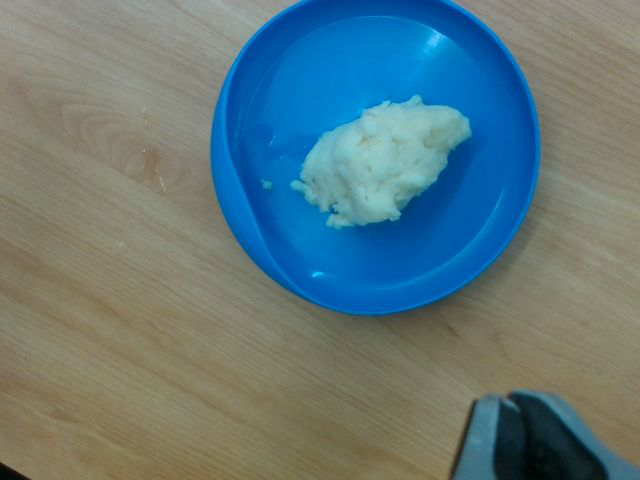mashed_potato: (301, 96, 471, 225)
